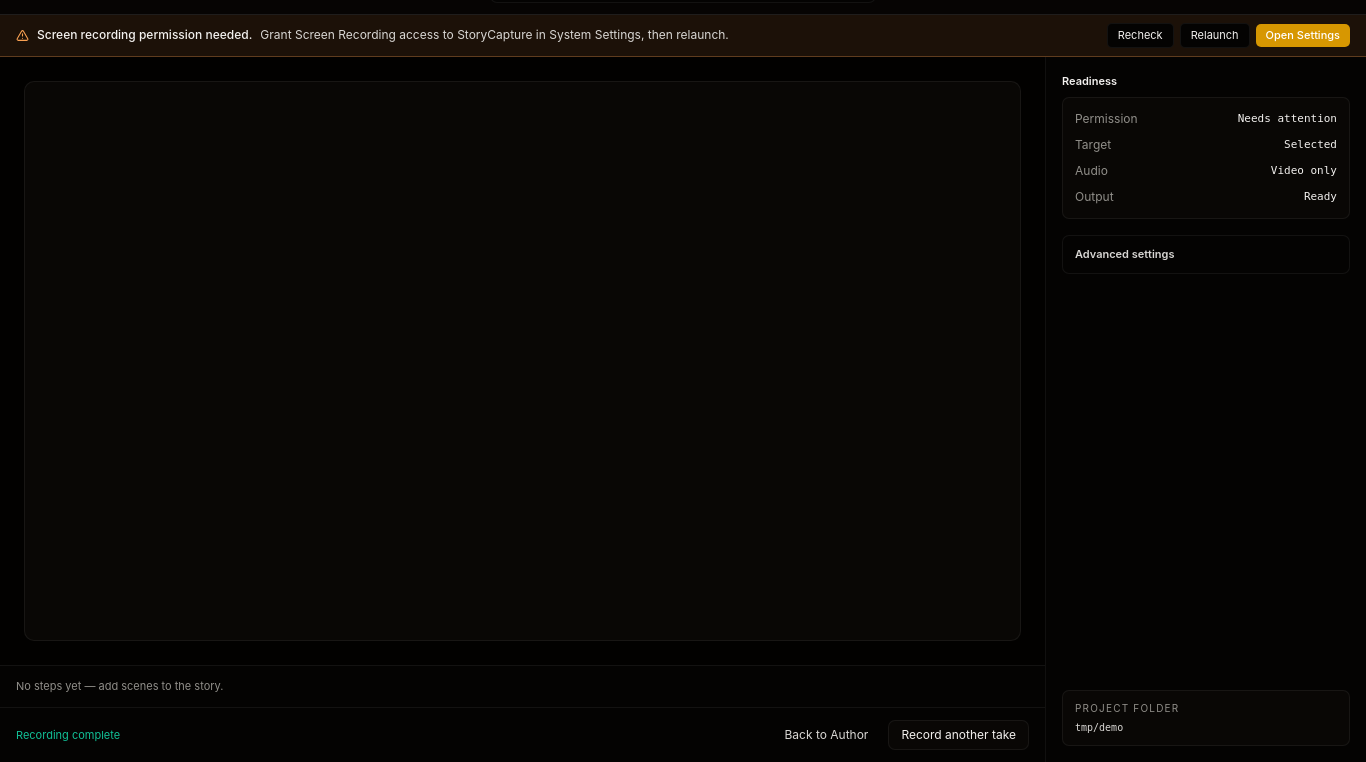
Test: RecordingView take lifecycle › publishes once when completion arrives through both event and returned outcome
This screenshot has width=1366, height=762.
(page scrolled)
What coordinates should you click on to do the following:
click the button with aria-label "New take"
I would click on:
 (959, 735)
Its box is [888,720,1029,750].
(page scrolled)
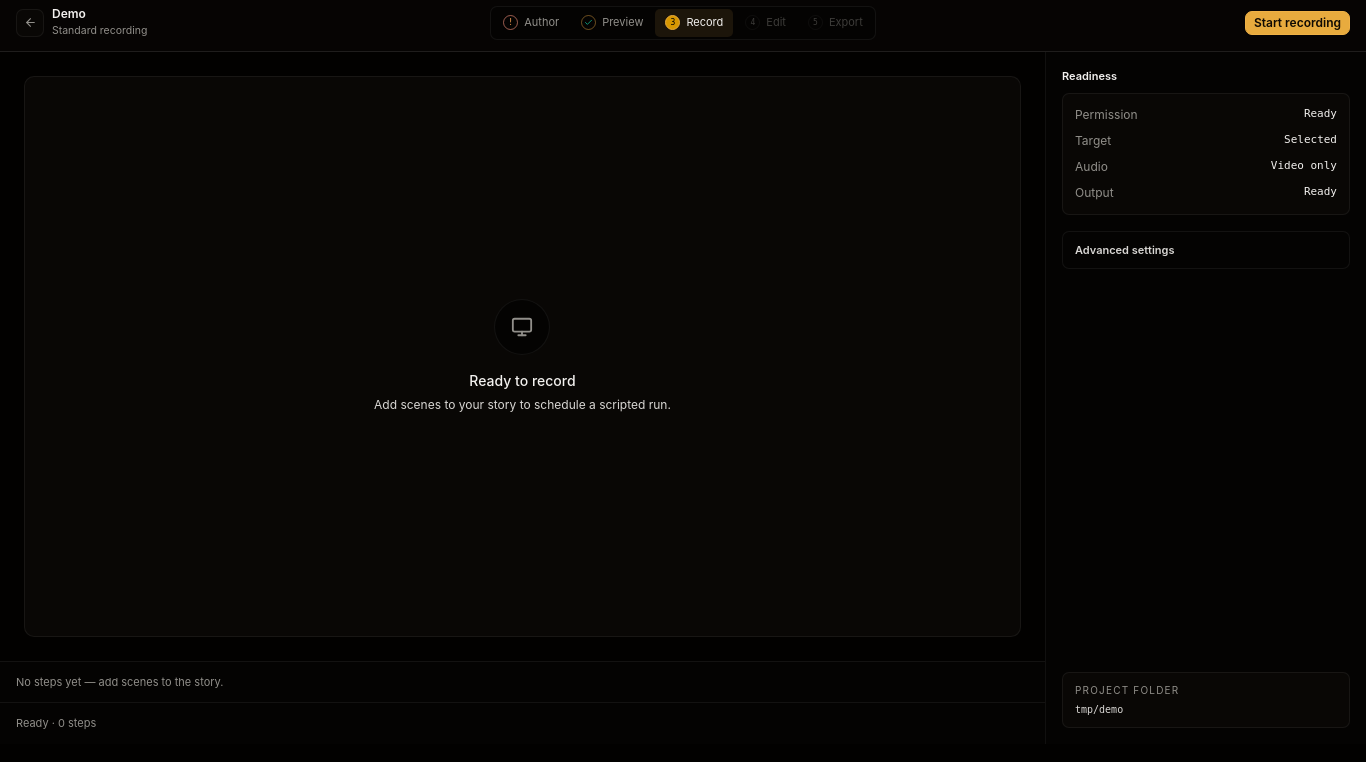
What coordinates should you click on to do the following:
click the button "Start recording"
I would click on:
 (1297, 22)
Its box is [1245,10,1350,34].
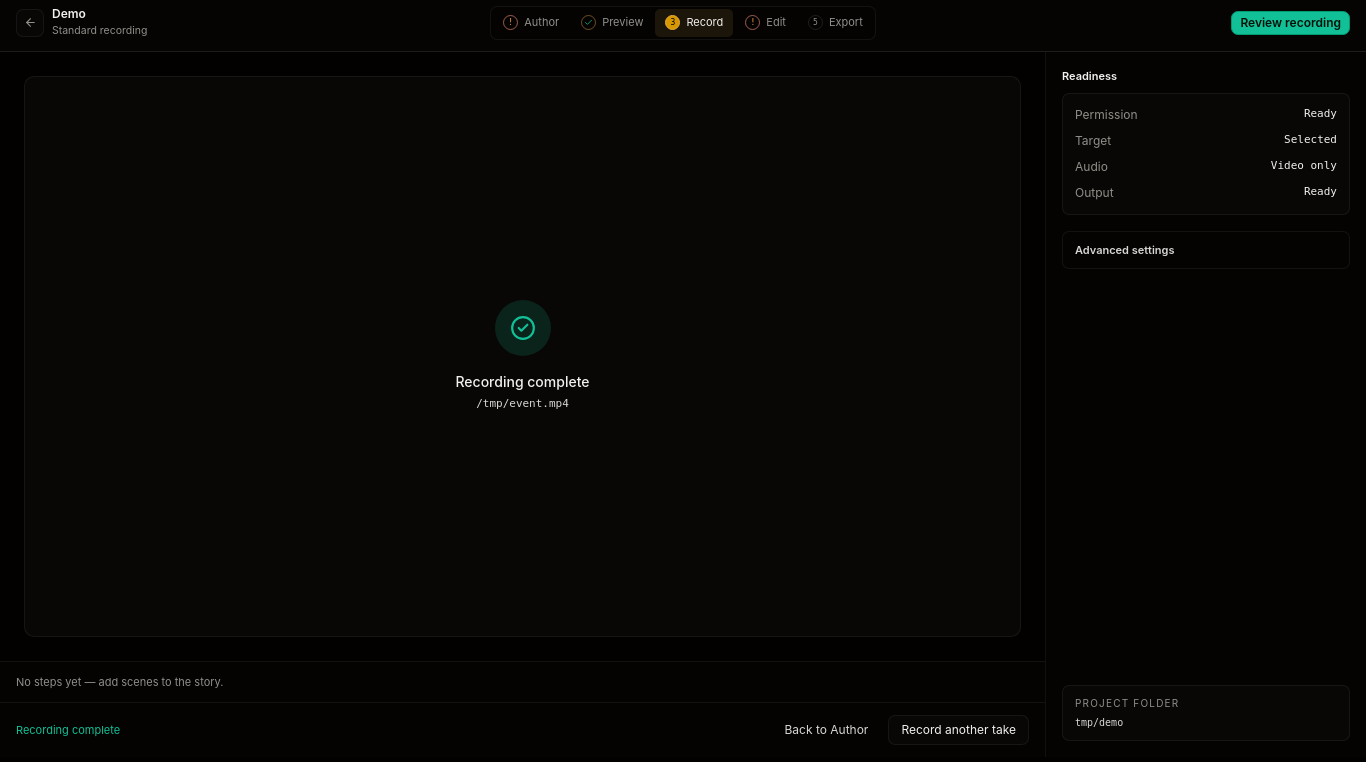
Result: the text "/tmp/event.mp4" is shown at [476,396,569,413]
